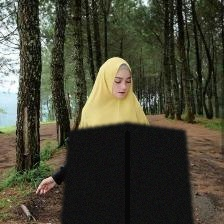Cadar_Niqab: (61, 55, 193, 224)
